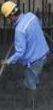boots: (44, 32, 53, 57), (0, 101, 9, 110)
gloves: (0, 86, 8, 107), (1, 57, 10, 65)
hard-hat: (0, 29, 10, 49)
ppe-suit: (6, 11, 50, 66)
